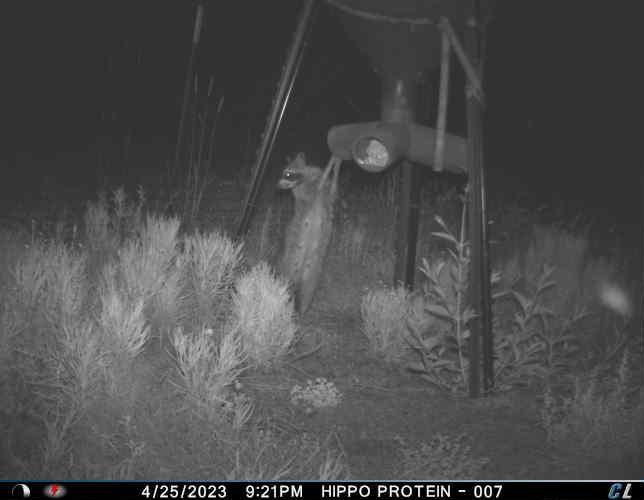Raccoon: (272, 150, 343, 316)
